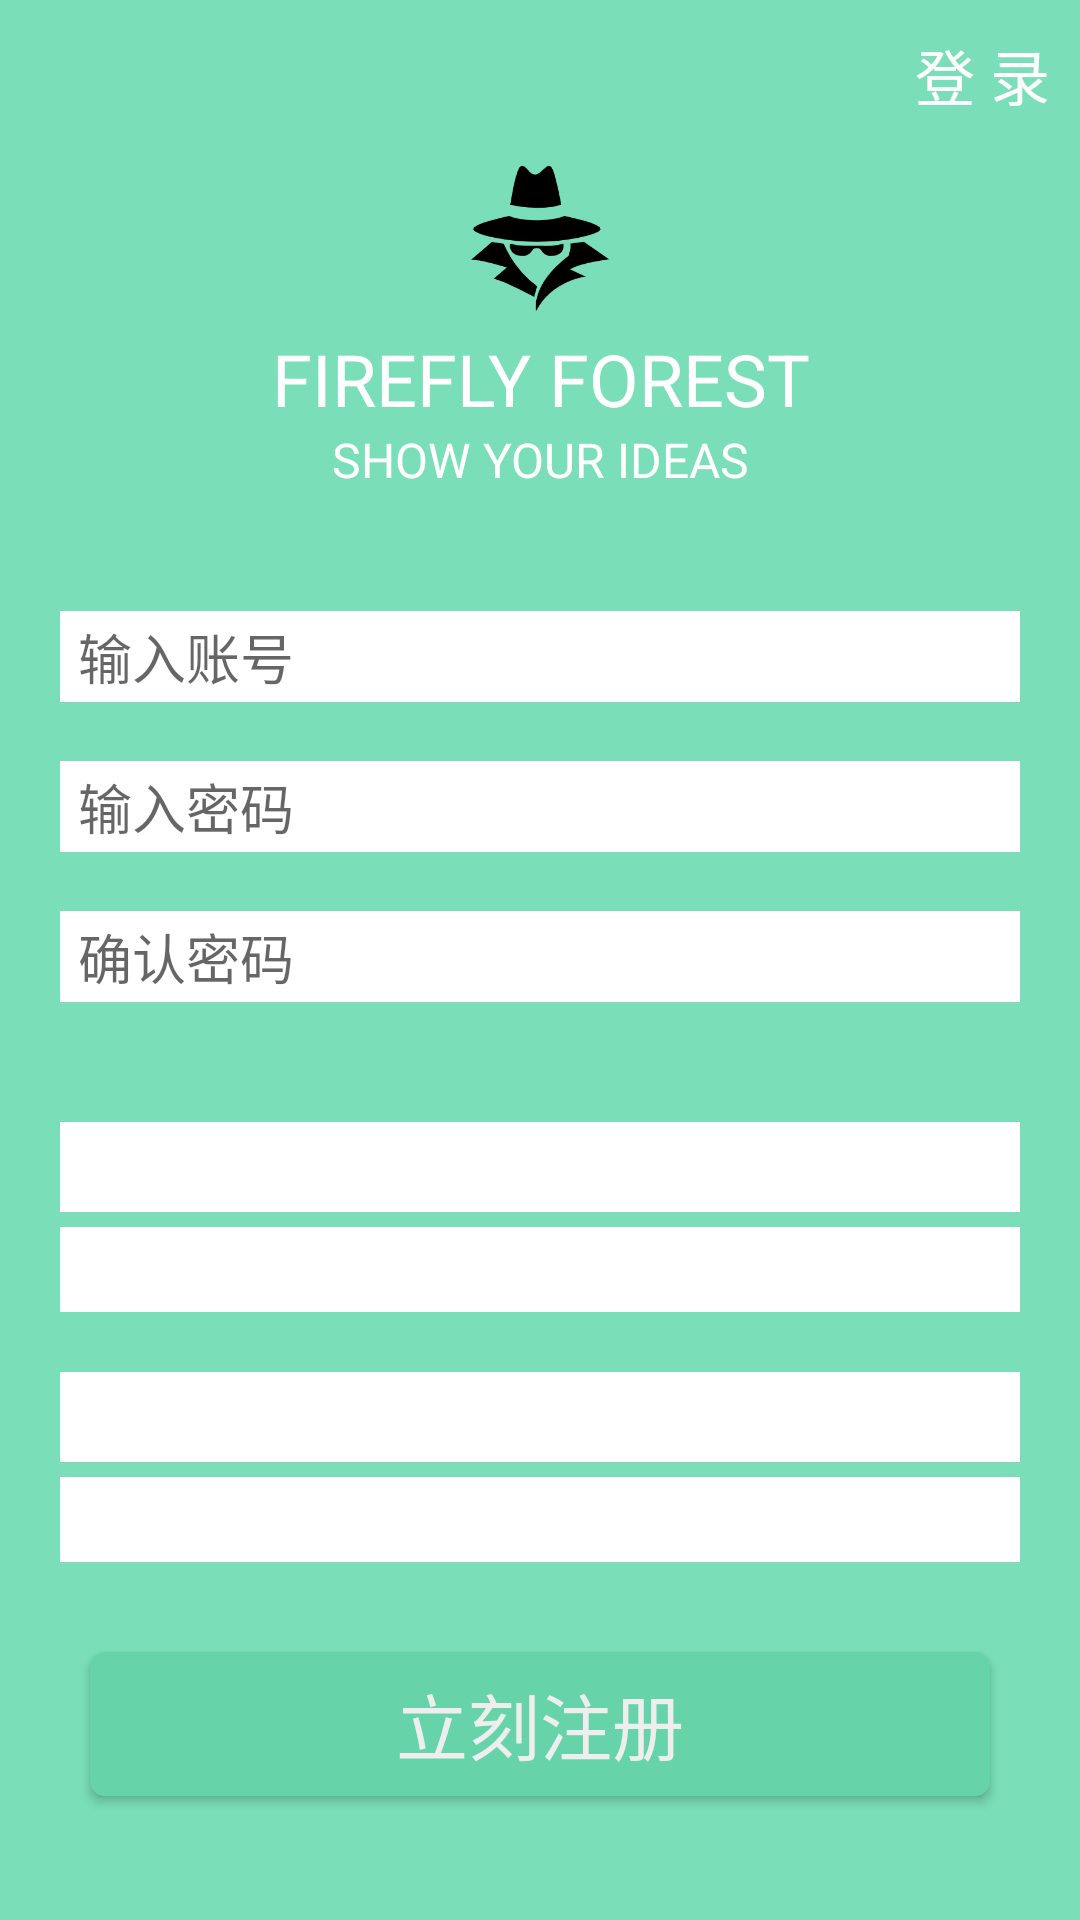

Icon click points for this 1080×1920 phone screenshot, format (x,y):
superspy: (540,238)
